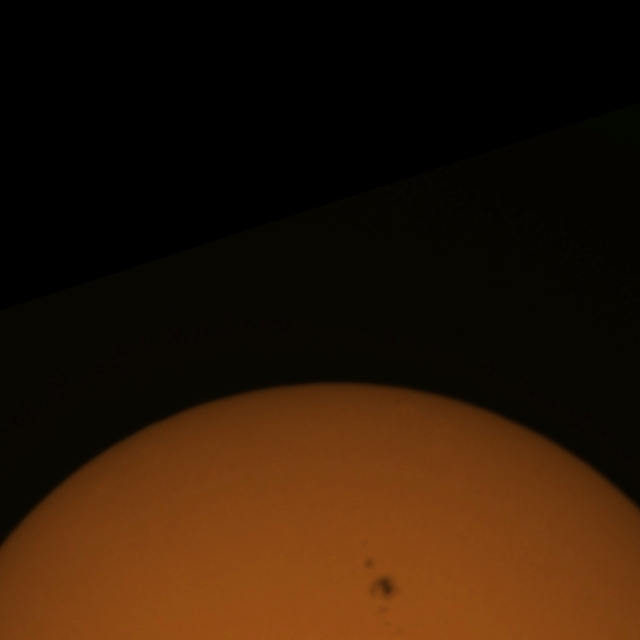sunspot: (367, 570, 399, 616), (361, 556, 377, 572)
